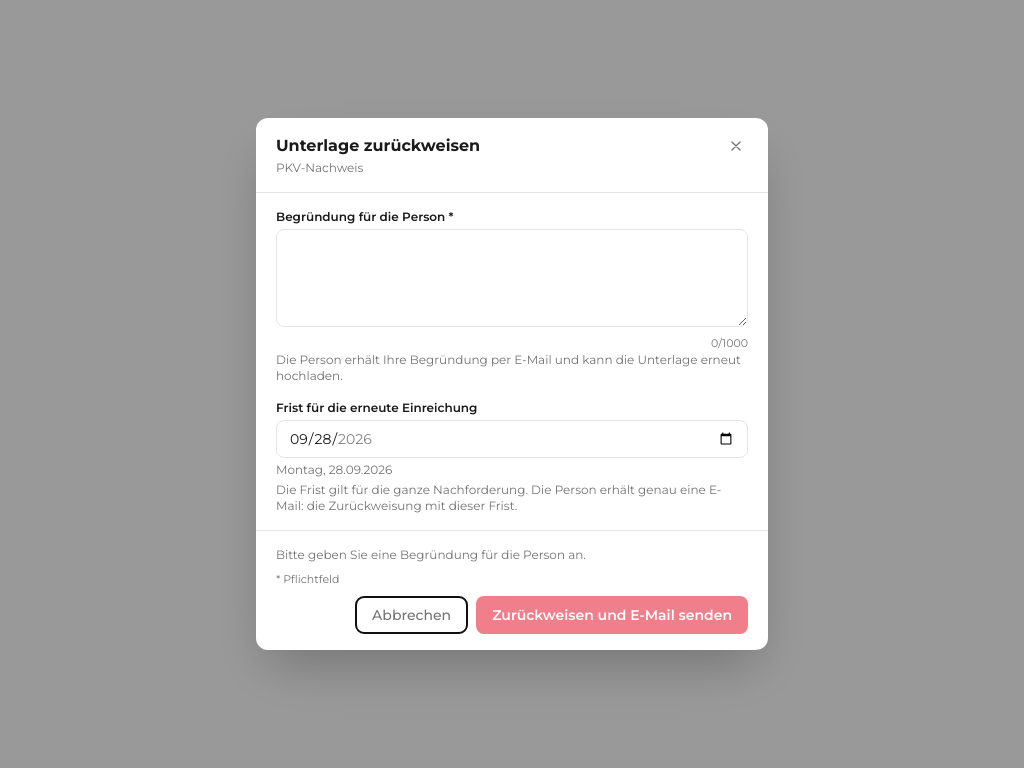
Test: Zurückweisen (EP-1, E-2) › eine Frist außerhalb der Grenzen sperrt mit dem Text des Servers
The width and height of the screenshot is (1024, 768).
Step 1. Type "Unleserlich." into the text box labelled "Begründung für die Person *" → point(512, 278), box [276,229,748,327]
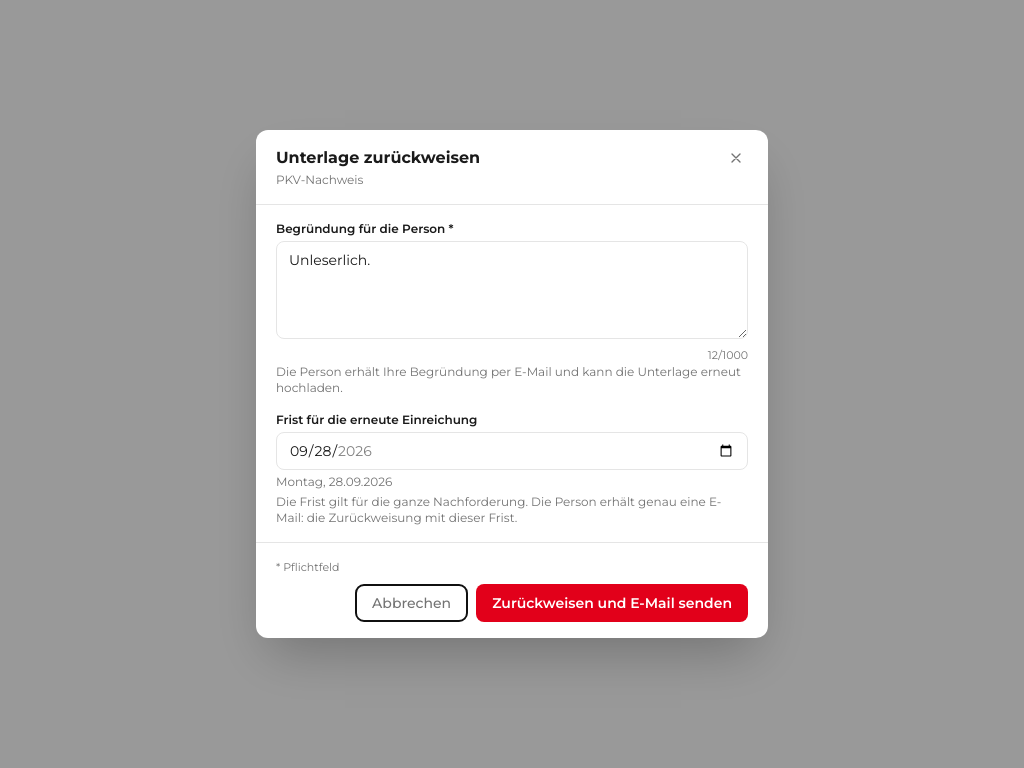
Step 2. Type "2027-06-01" into the date field labelled "Frist für die erneute Einreichung" → point(512, 451), box [276,432,748,470]
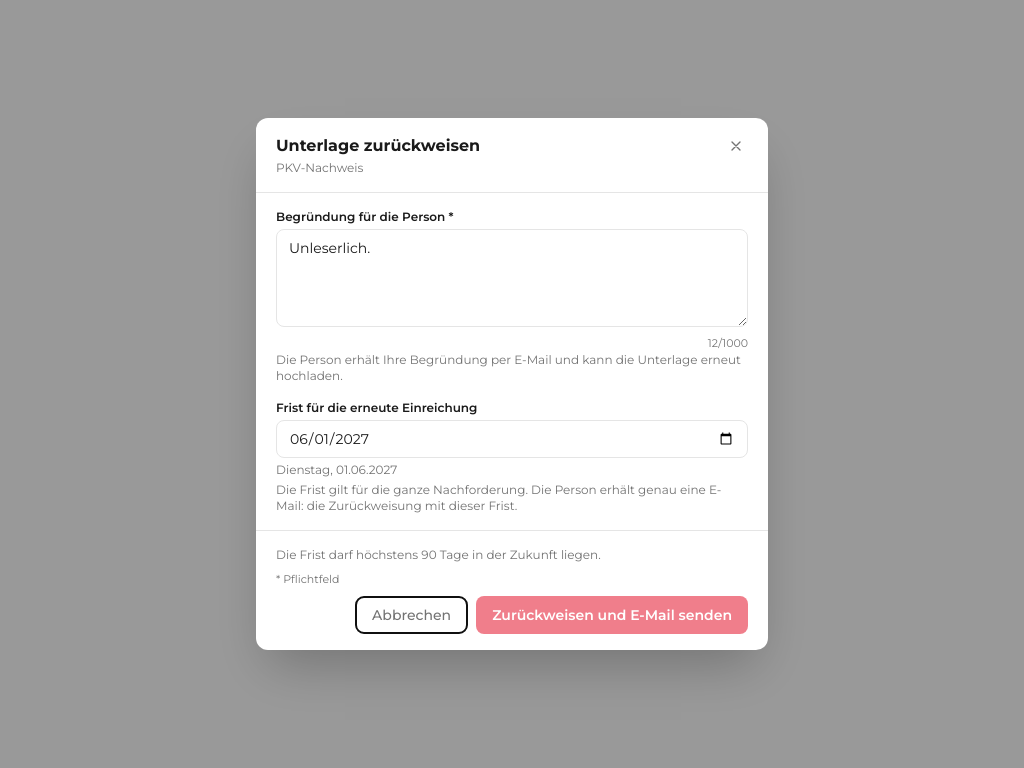
Expected: the button "Zurückweisen und E-Mail senden" is disabled, [476,596,748,634]
